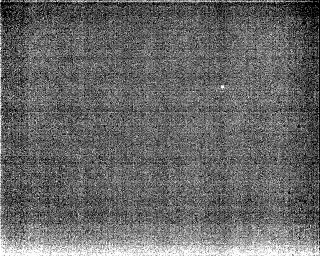BIRD: (217, 82, 227, 93)
